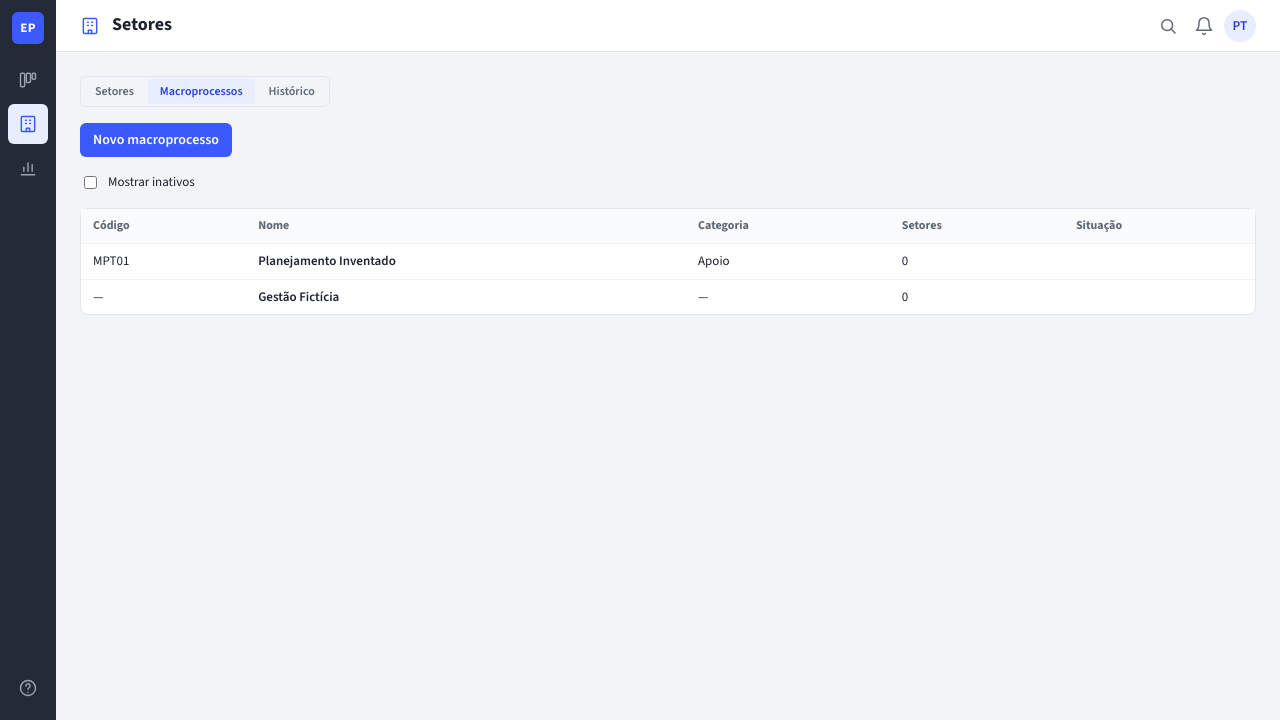
Test case: editar qualquer campo, inclusive o nome, grava, volta à lista e mostra o novo valor
Click the cell "Planejamento Inventado": [466, 262] box [246,244,686,280]
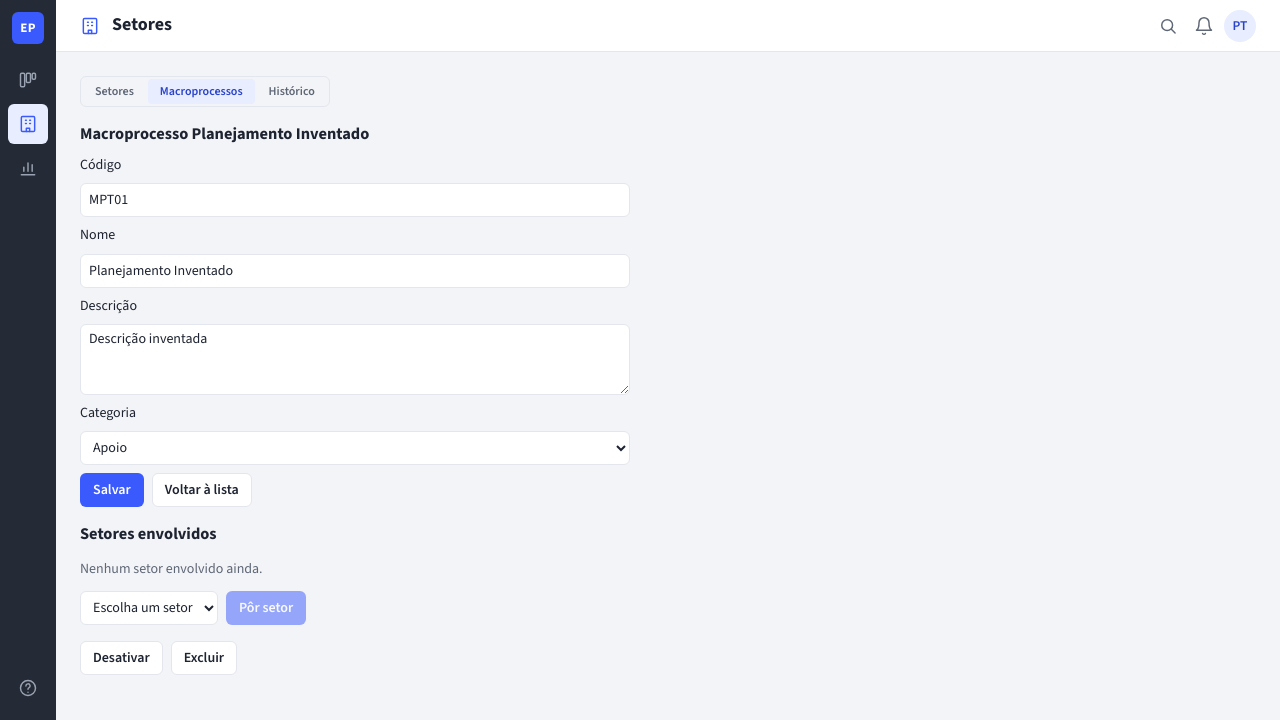
Replace the text in the field labelled "Nome" with " Planejamento Renomeado ": [355, 271] box [80,254,630,288]
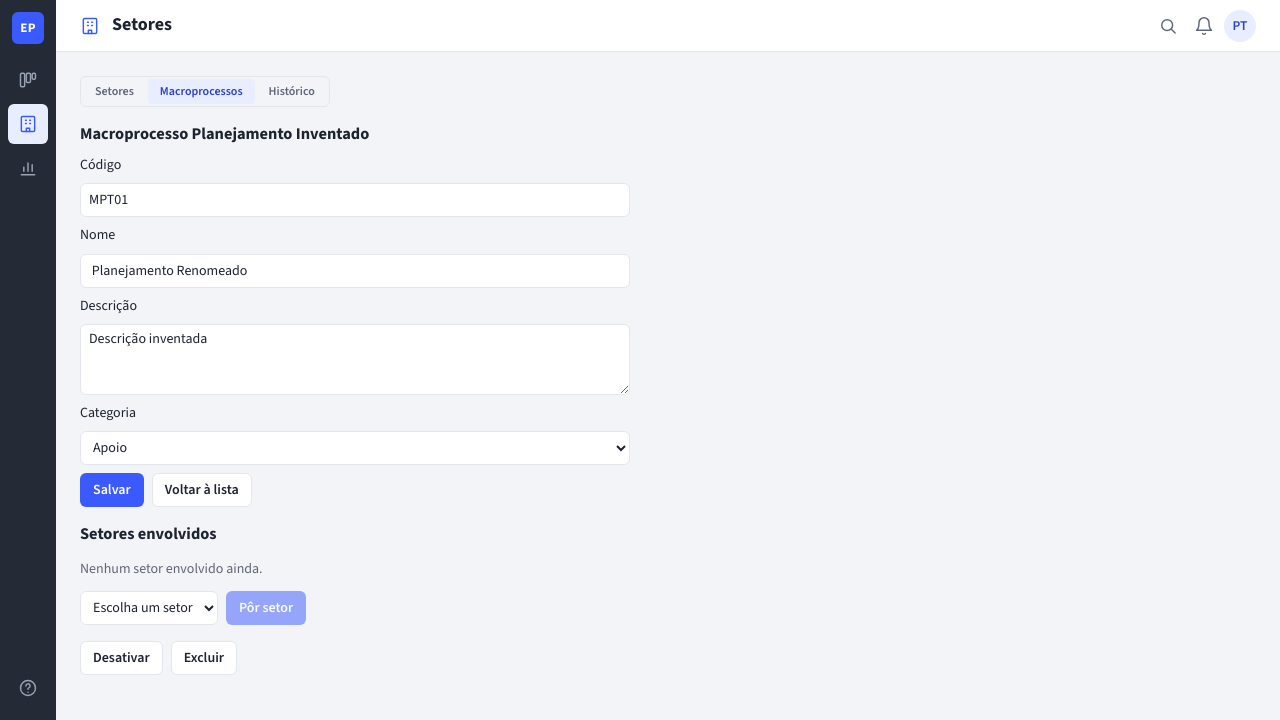
Replace the text in the field labelled "Código" with " MPT09 ": [355, 200] box [80,183,630,217]
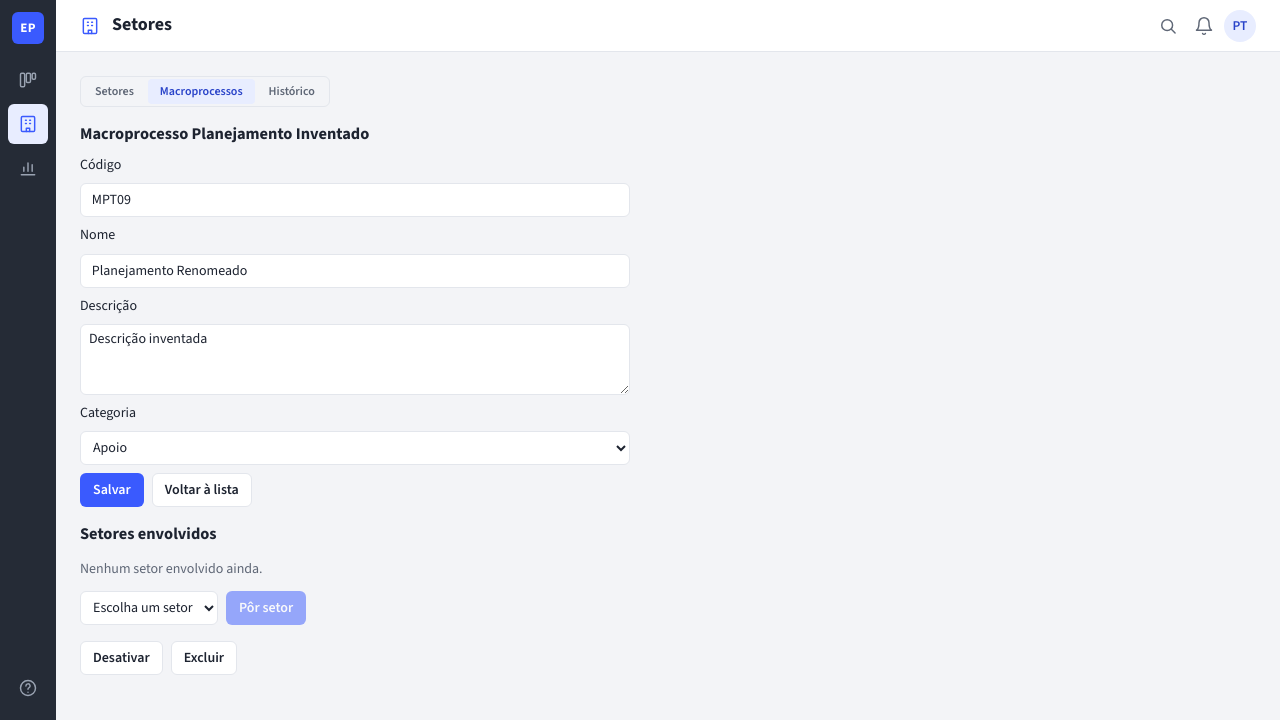
Select "Finalístico" in the dropdown labelled "Categoria": [355, 448] box [80,431,630,465]
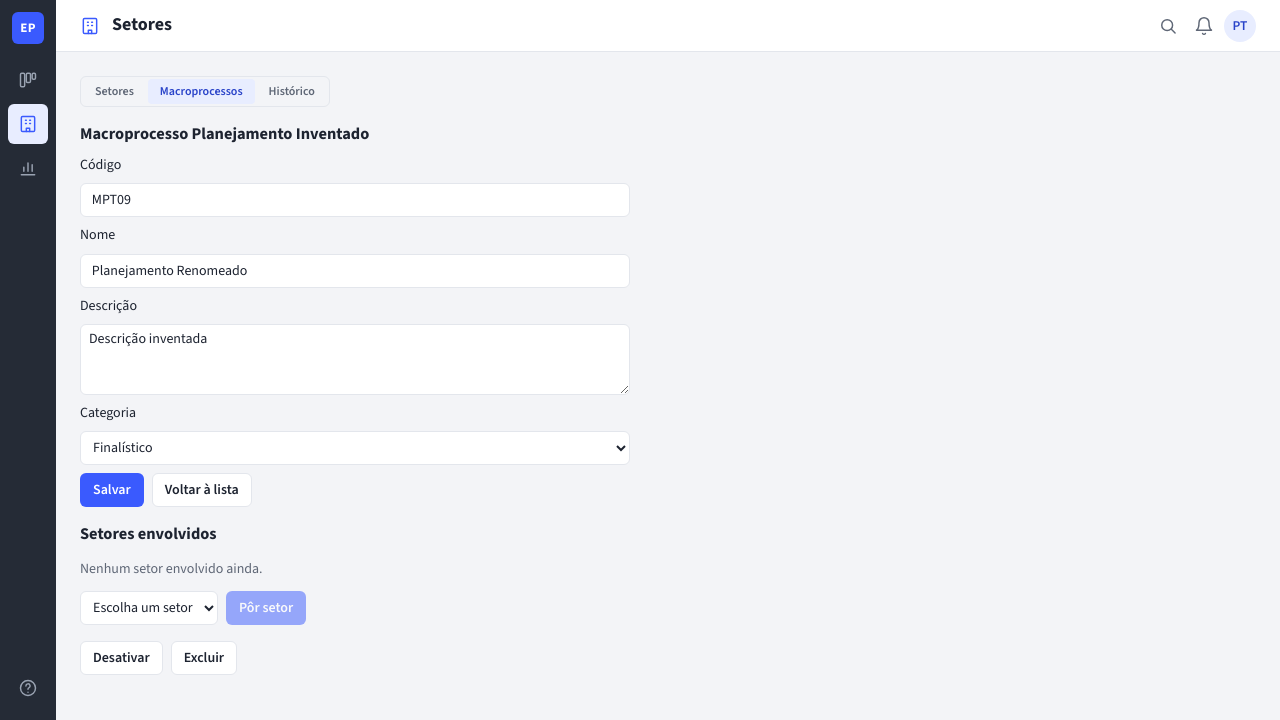
Click the button "Salvar": [112, 490] box [80,473,144,507]
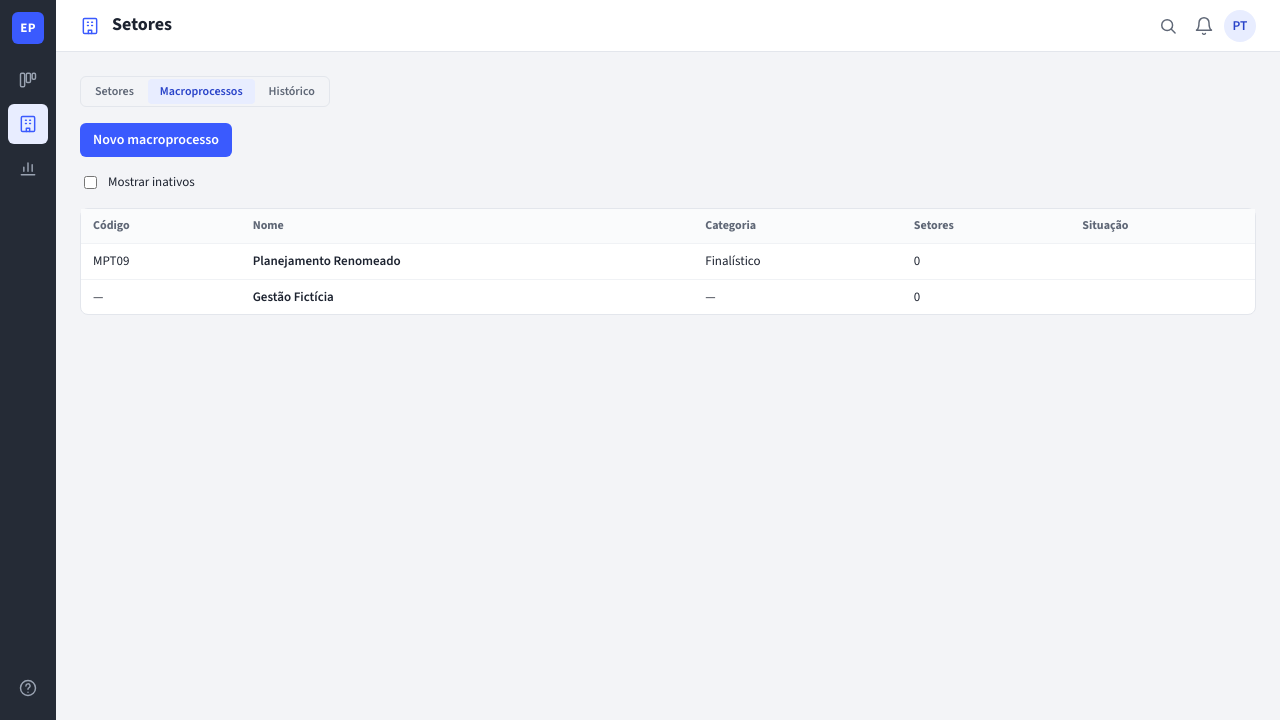
Result: the cell "Planejamento Renomeado" is shown at [241,244,693,280]
